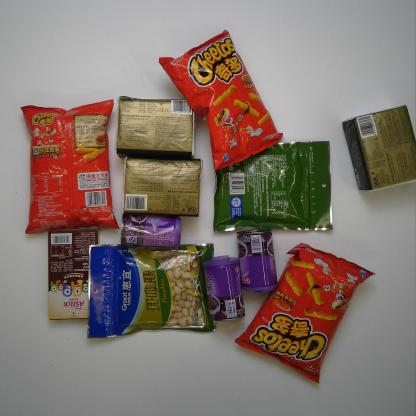Canned Food: (202, 252, 247, 324), (236, 225, 283, 293), (116, 211, 184, 247)
Dessert: (46, 227, 101, 322)
Dried Fruit: (86, 240, 218, 343), (211, 139, 336, 235)
Puffed Food: (233, 244, 376, 384), (157, 30, 285, 170), (18, 97, 123, 233)
Tissue: (342, 104, 416, 194), (116, 93, 198, 157), (123, 155, 202, 219)
